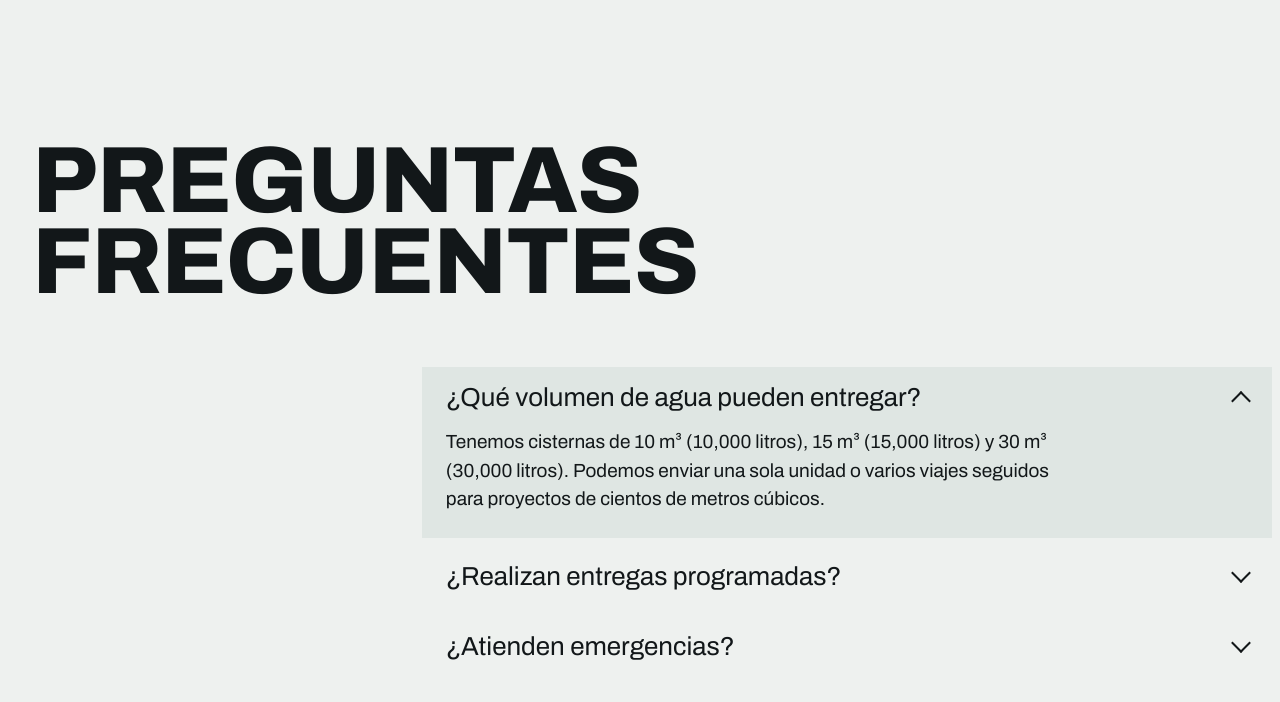
Test: FaqAccordion Component › toggles accordion answer visibility when clicking question button
The image size is (1280, 702).
Click the heading "¿Realizan entregas programadas?": (644, 576) top-left (446, 562), bottom-right (1251, 590)
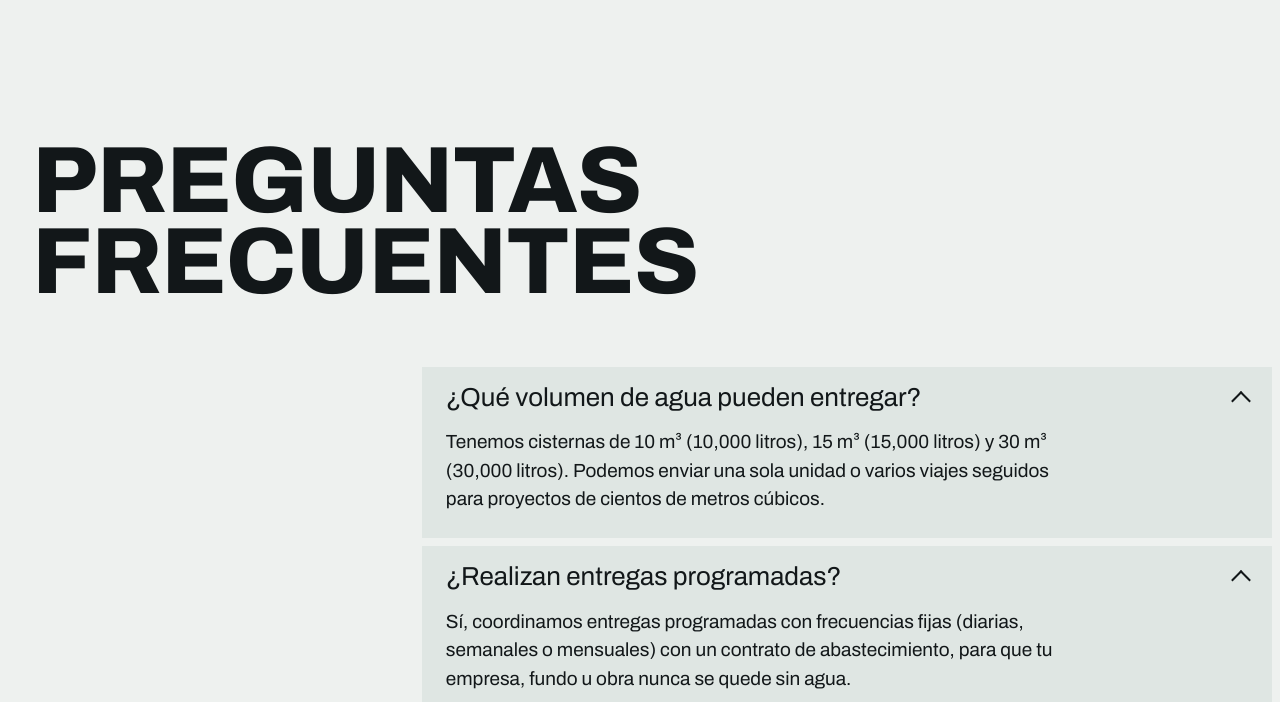
Expected: the text "Sí, coordinamos entregas programadas con frecuencias fijas" is shown, top-left (446, 611), bottom-right (1052, 689)
